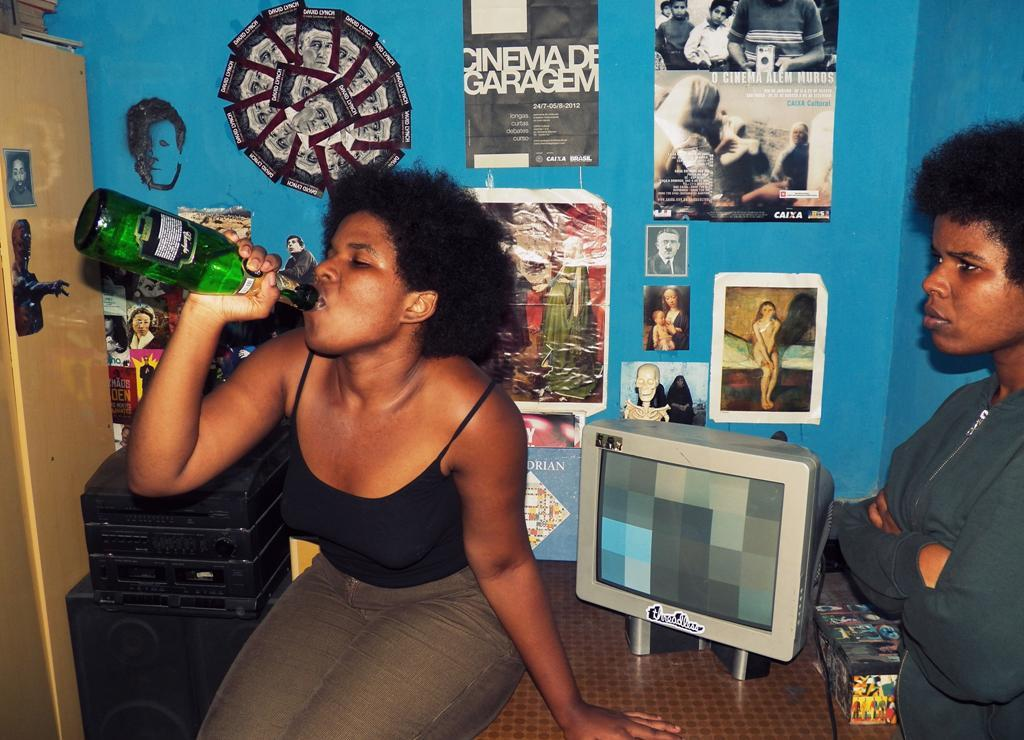Computer-monitor: (582, 420, 841, 683)
